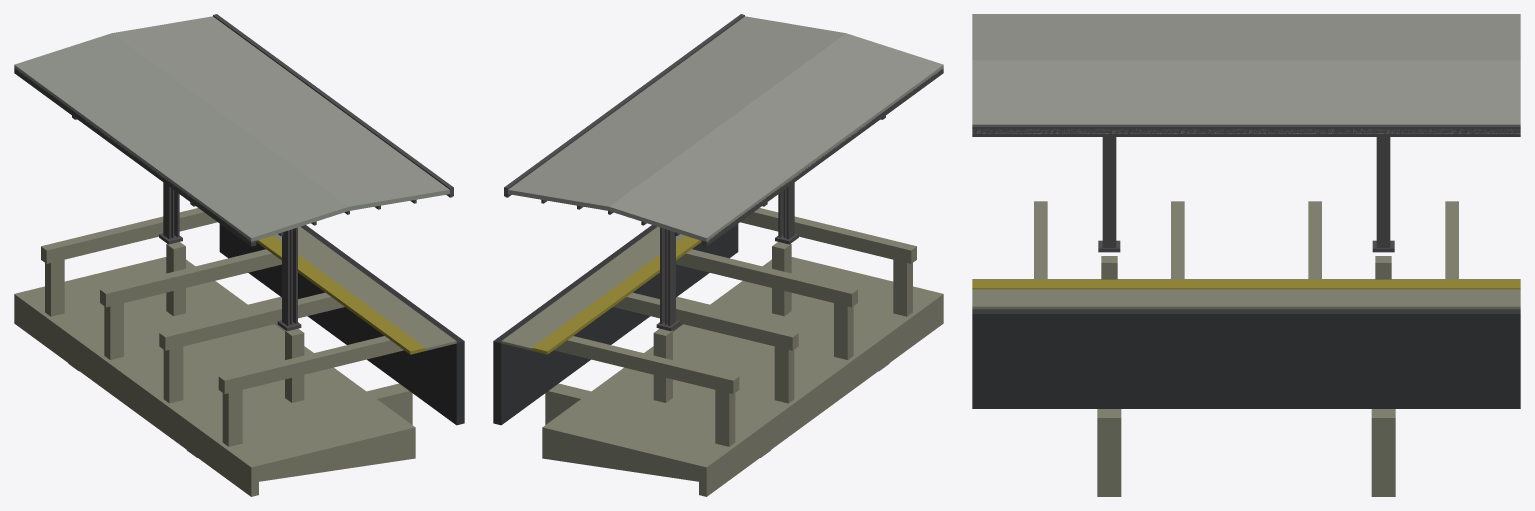
File: platform.fbx
3 views of the same model, side by side, from view 1: azimuth 30°, elevation 25°; view 2: azimuth 150°, elevation 25°; view 3: azimuth 270°, elevation 25° (orthographic). The views are drawn at different scales.
Visible parts, largest first — view 1: p472_Platform; view 2: p472_Platform; view 3: p472_Platform.
Boxes of the visible parts, bbox=[...] form: p472_Platform: bbox=[14, 14, 464, 496]; p472_Platform: bbox=[493, 14, 943, 496]; p472_Platform: bbox=[972, 14, 1520, 496].
Size of the model in its own units: 4.2 by 5.96 by 8.
